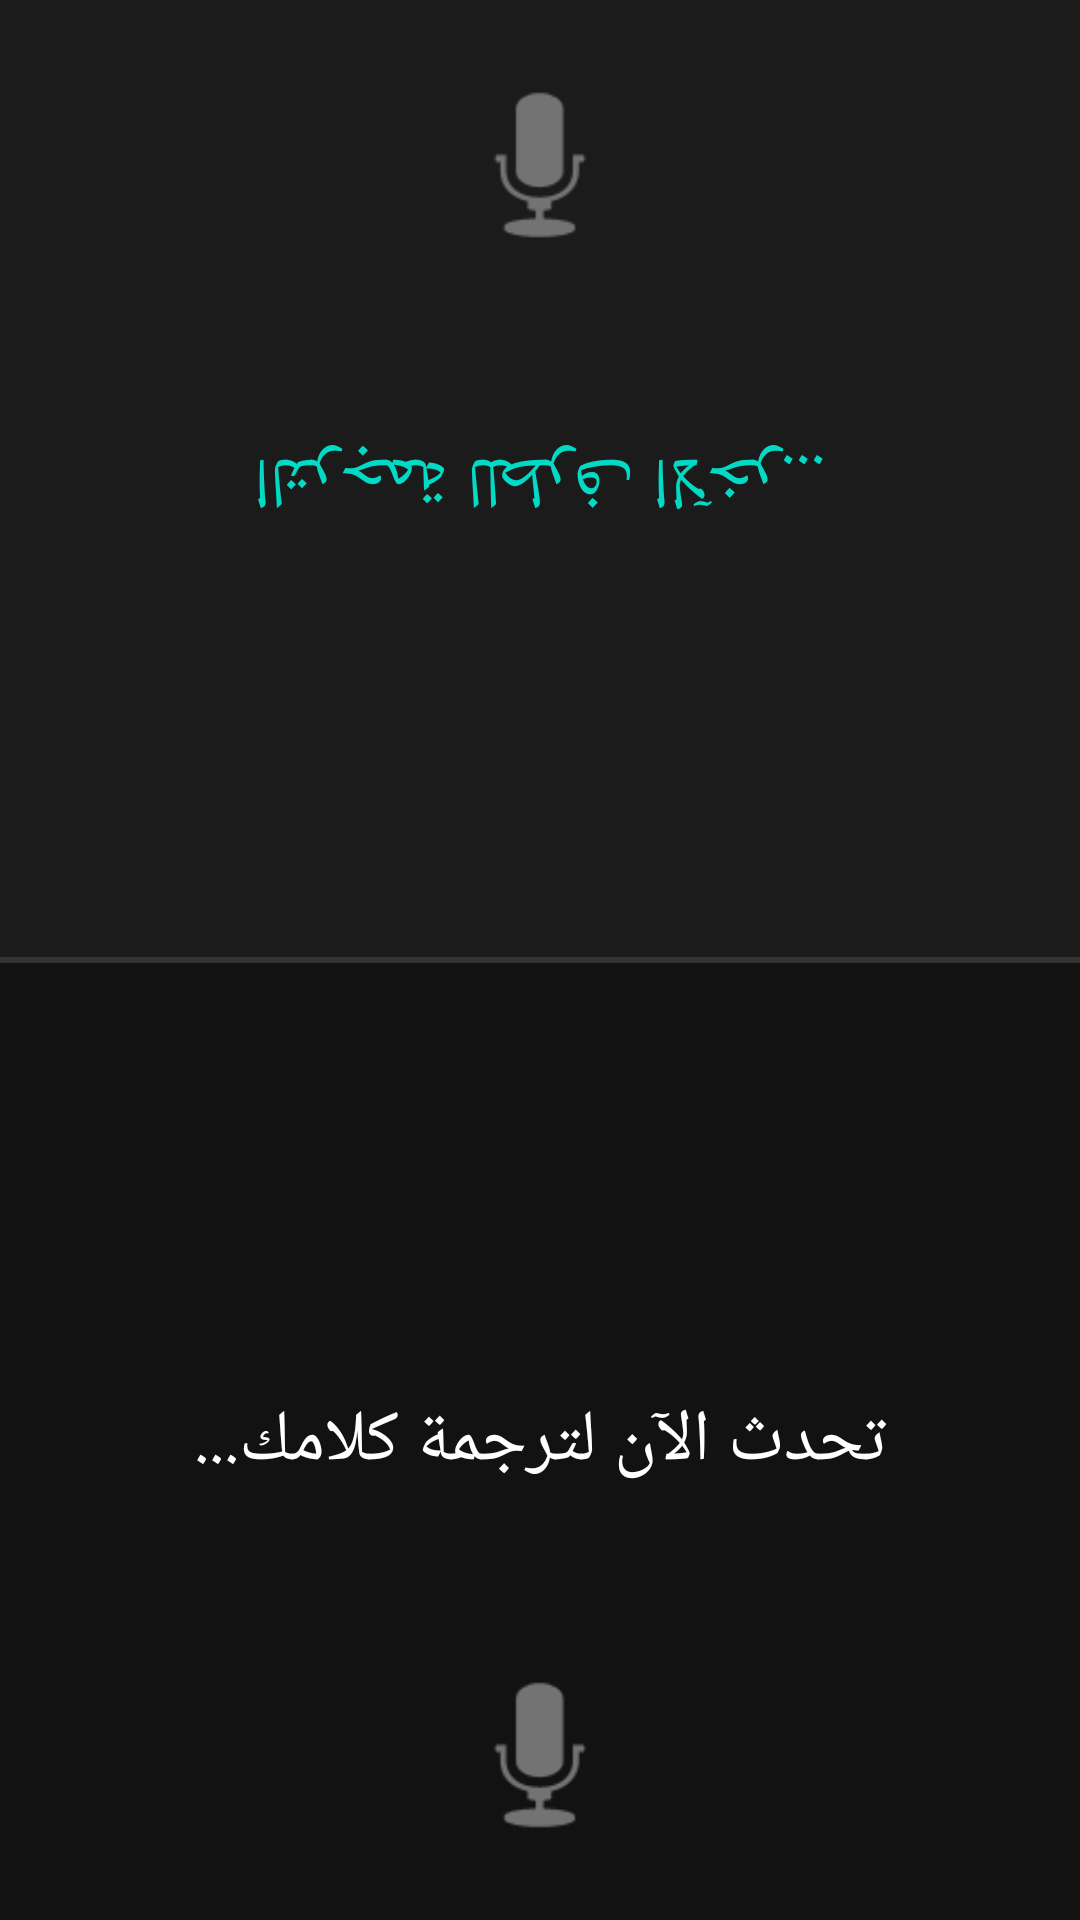

Named icons in this screenshot (1080px×1920px) and their centers, [x,y]:
speak now: [540,165], [539,1755]
